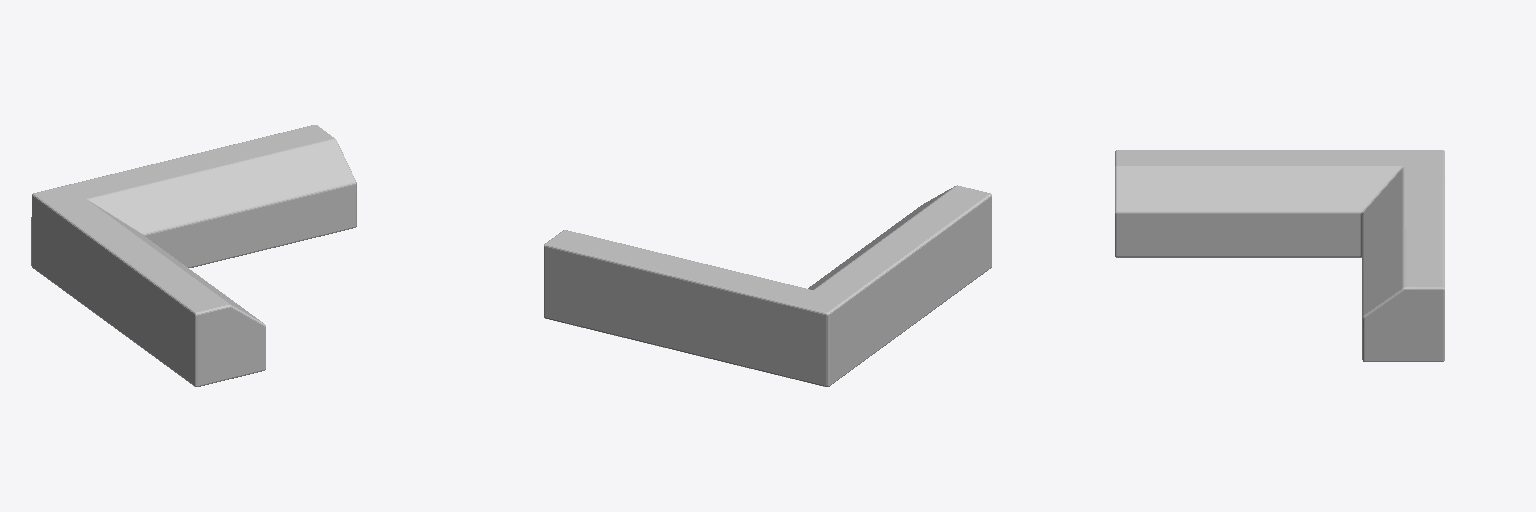
The model's file is Outside_Corner1_HP.obj.
3 views of the same model, side by side, from view 1: azimuth 30°, elevation 25°; view 2: azimuth 150°, elevation 25°; view 3: azimuth 270°, elevation 25° (orthographic).
Parts seen in each view (by area): view 1: Outside_Corner1_HP; view 2: Outside_Corner1_HP; view 3: Outside_Corner1_HP.
Part boxes in pixels (bbox=[...]): Outside_Corner1_HP: bbox=[31, 125, 356, 386]; Outside_Corner1_HP: bbox=[544, 185, 991, 386]; Outside_Corner1_HP: bbox=[1115, 150, 1444, 361].
Bounding box in the file's own units: 4 × 1 × 4.